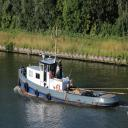tugboat: (18, 48, 121, 113)
